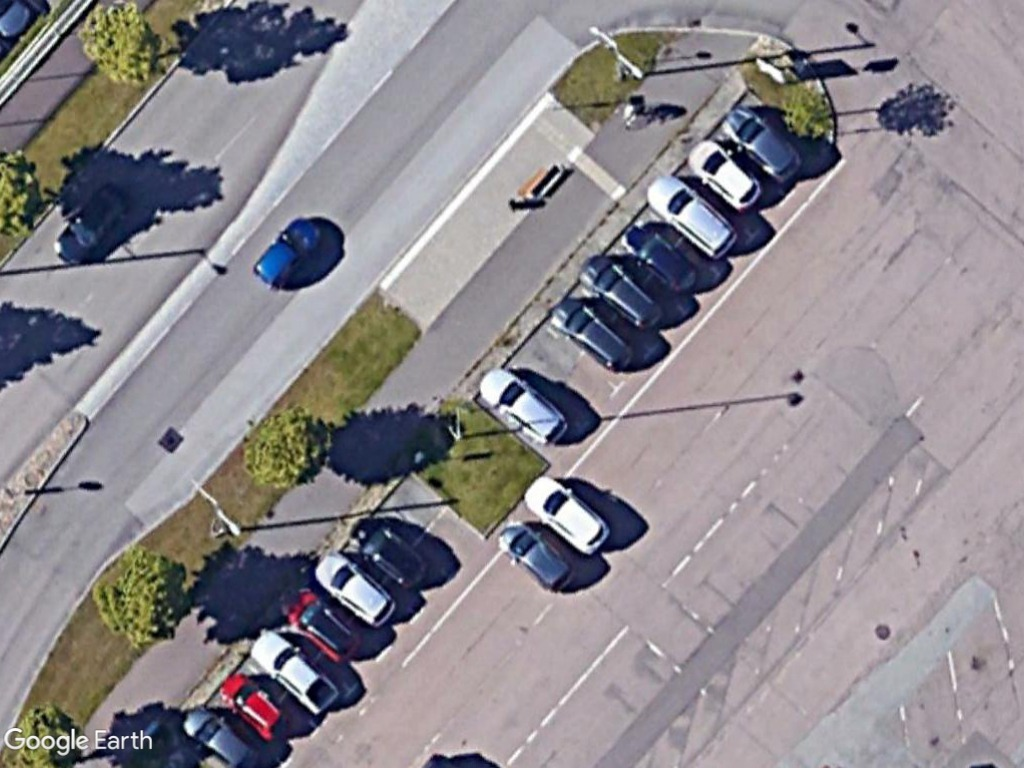car: (246, 623, 355, 727), (644, 170, 745, 265), (547, 288, 647, 378), (576, 247, 675, 334), (522, 472, 616, 560), (346, 508, 437, 596), (475, 367, 570, 449), (310, 549, 403, 632), (720, 102, 808, 185), (251, 209, 333, 293), (491, 517, 580, 594), (278, 585, 364, 662), (621, 214, 700, 297), (685, 137, 769, 213)
